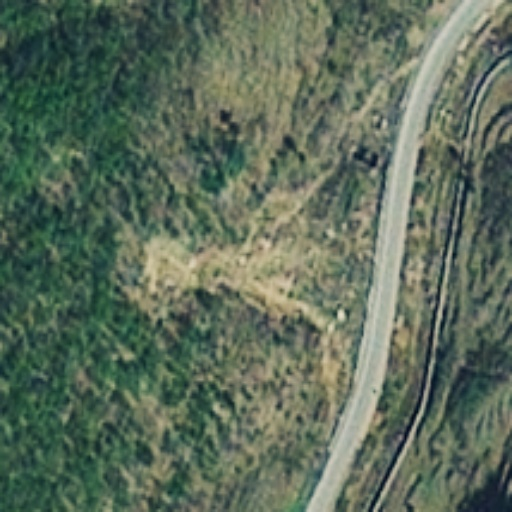landslide: (132, 214, 353, 327)
